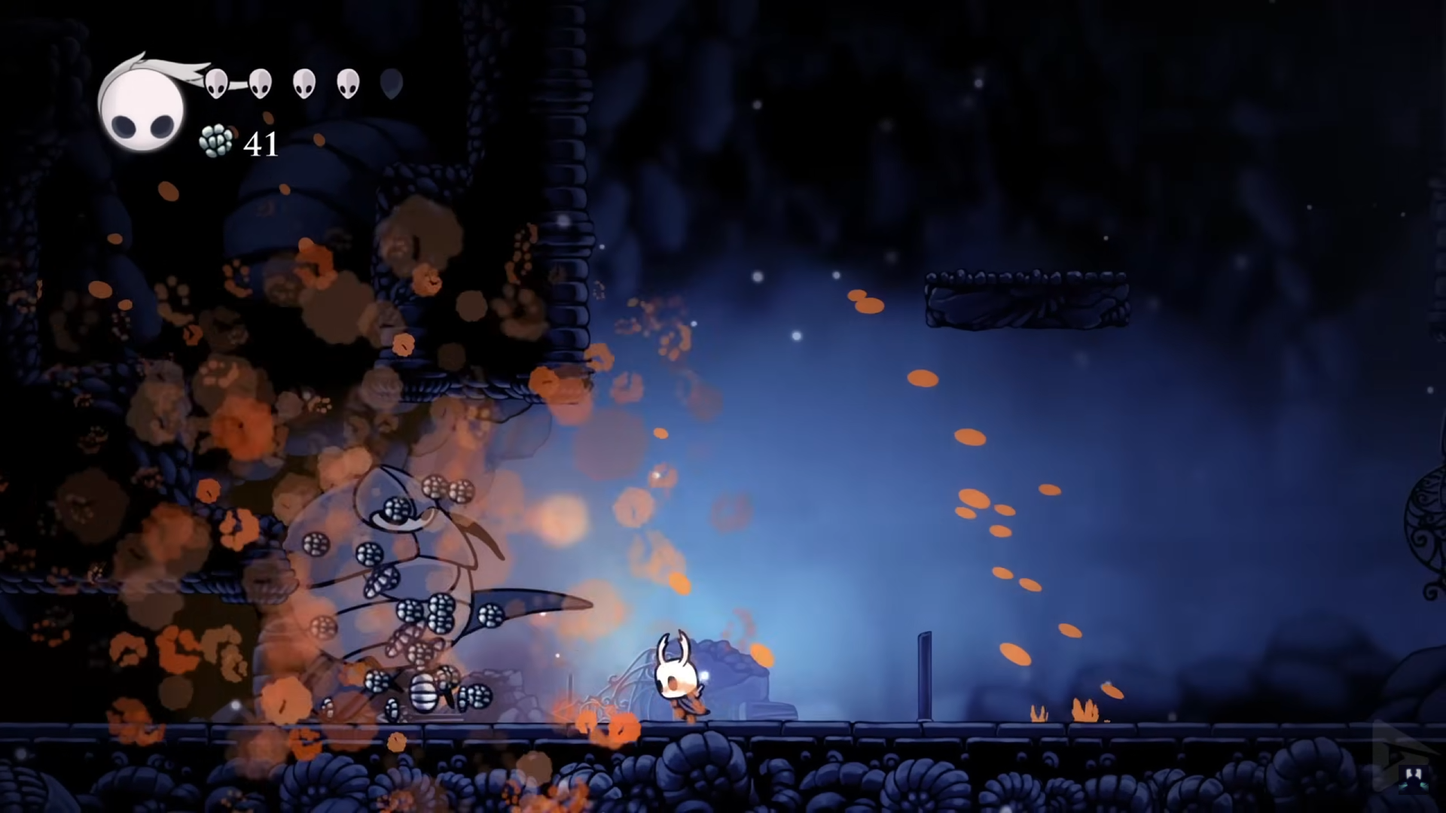HK: (650, 632, 722, 729)
